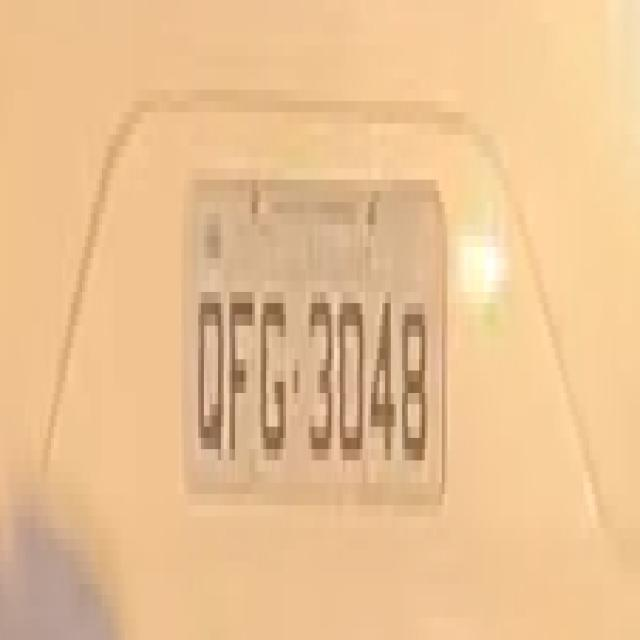Placa_mercosul_carro: (180, 164, 447, 508)
